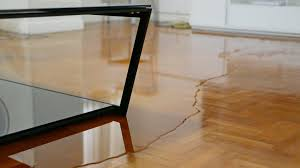Wet-floor: (4, 23, 247, 165)
